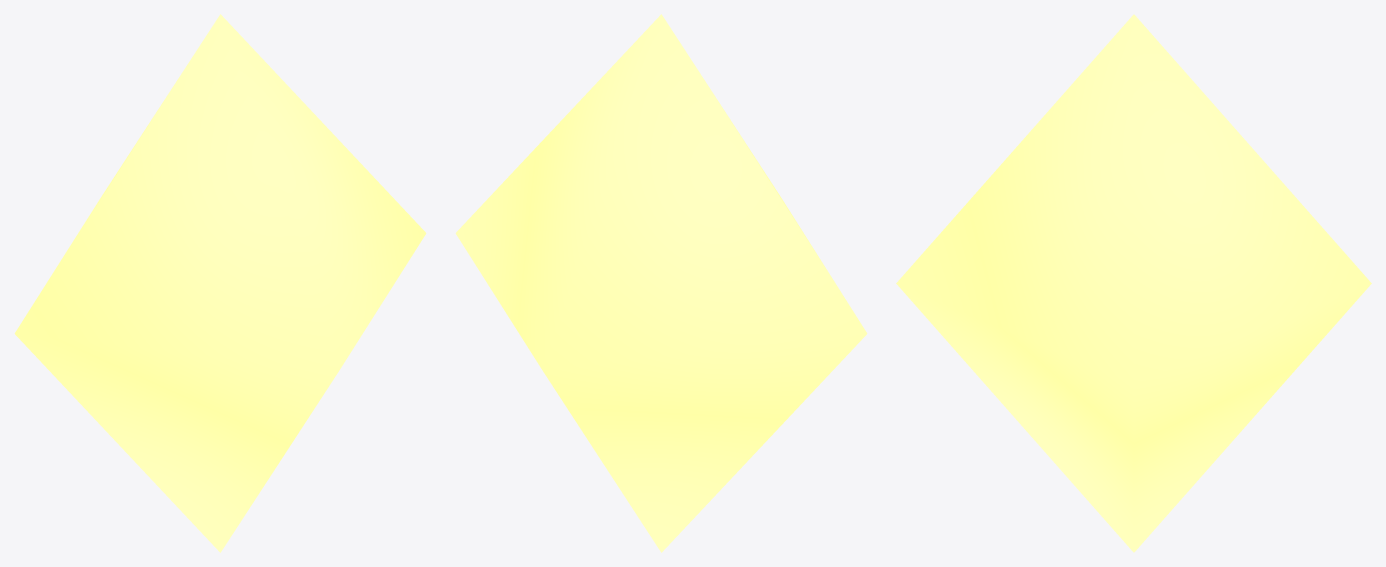
The model's file is SM_cv_gem_red.glb.
The picture shows the model from 3 angles, left to right: view 1: azimuth 30°, elevation 25°; view 2: azimuth 150°, elevation 25°; view 3: azimuth 270°, elevation 25°; orthographic projection.
Visible parts, largest first — view 1: SM_cv_gem_red; view 2: SM_cv_gem_red; view 3: SM_cv_gem_red.
Boxes of the visible parts, <box> form: SM_cv_gem_red: <box>14,14,426,552</box>; SM_cv_gem_red: <box>455,14,867,552</box>; SM_cv_gem_red: <box>896,14,1371,552</box>.
Bounding box in the file's own units: 0.64 × 0.8 × 0.64.
